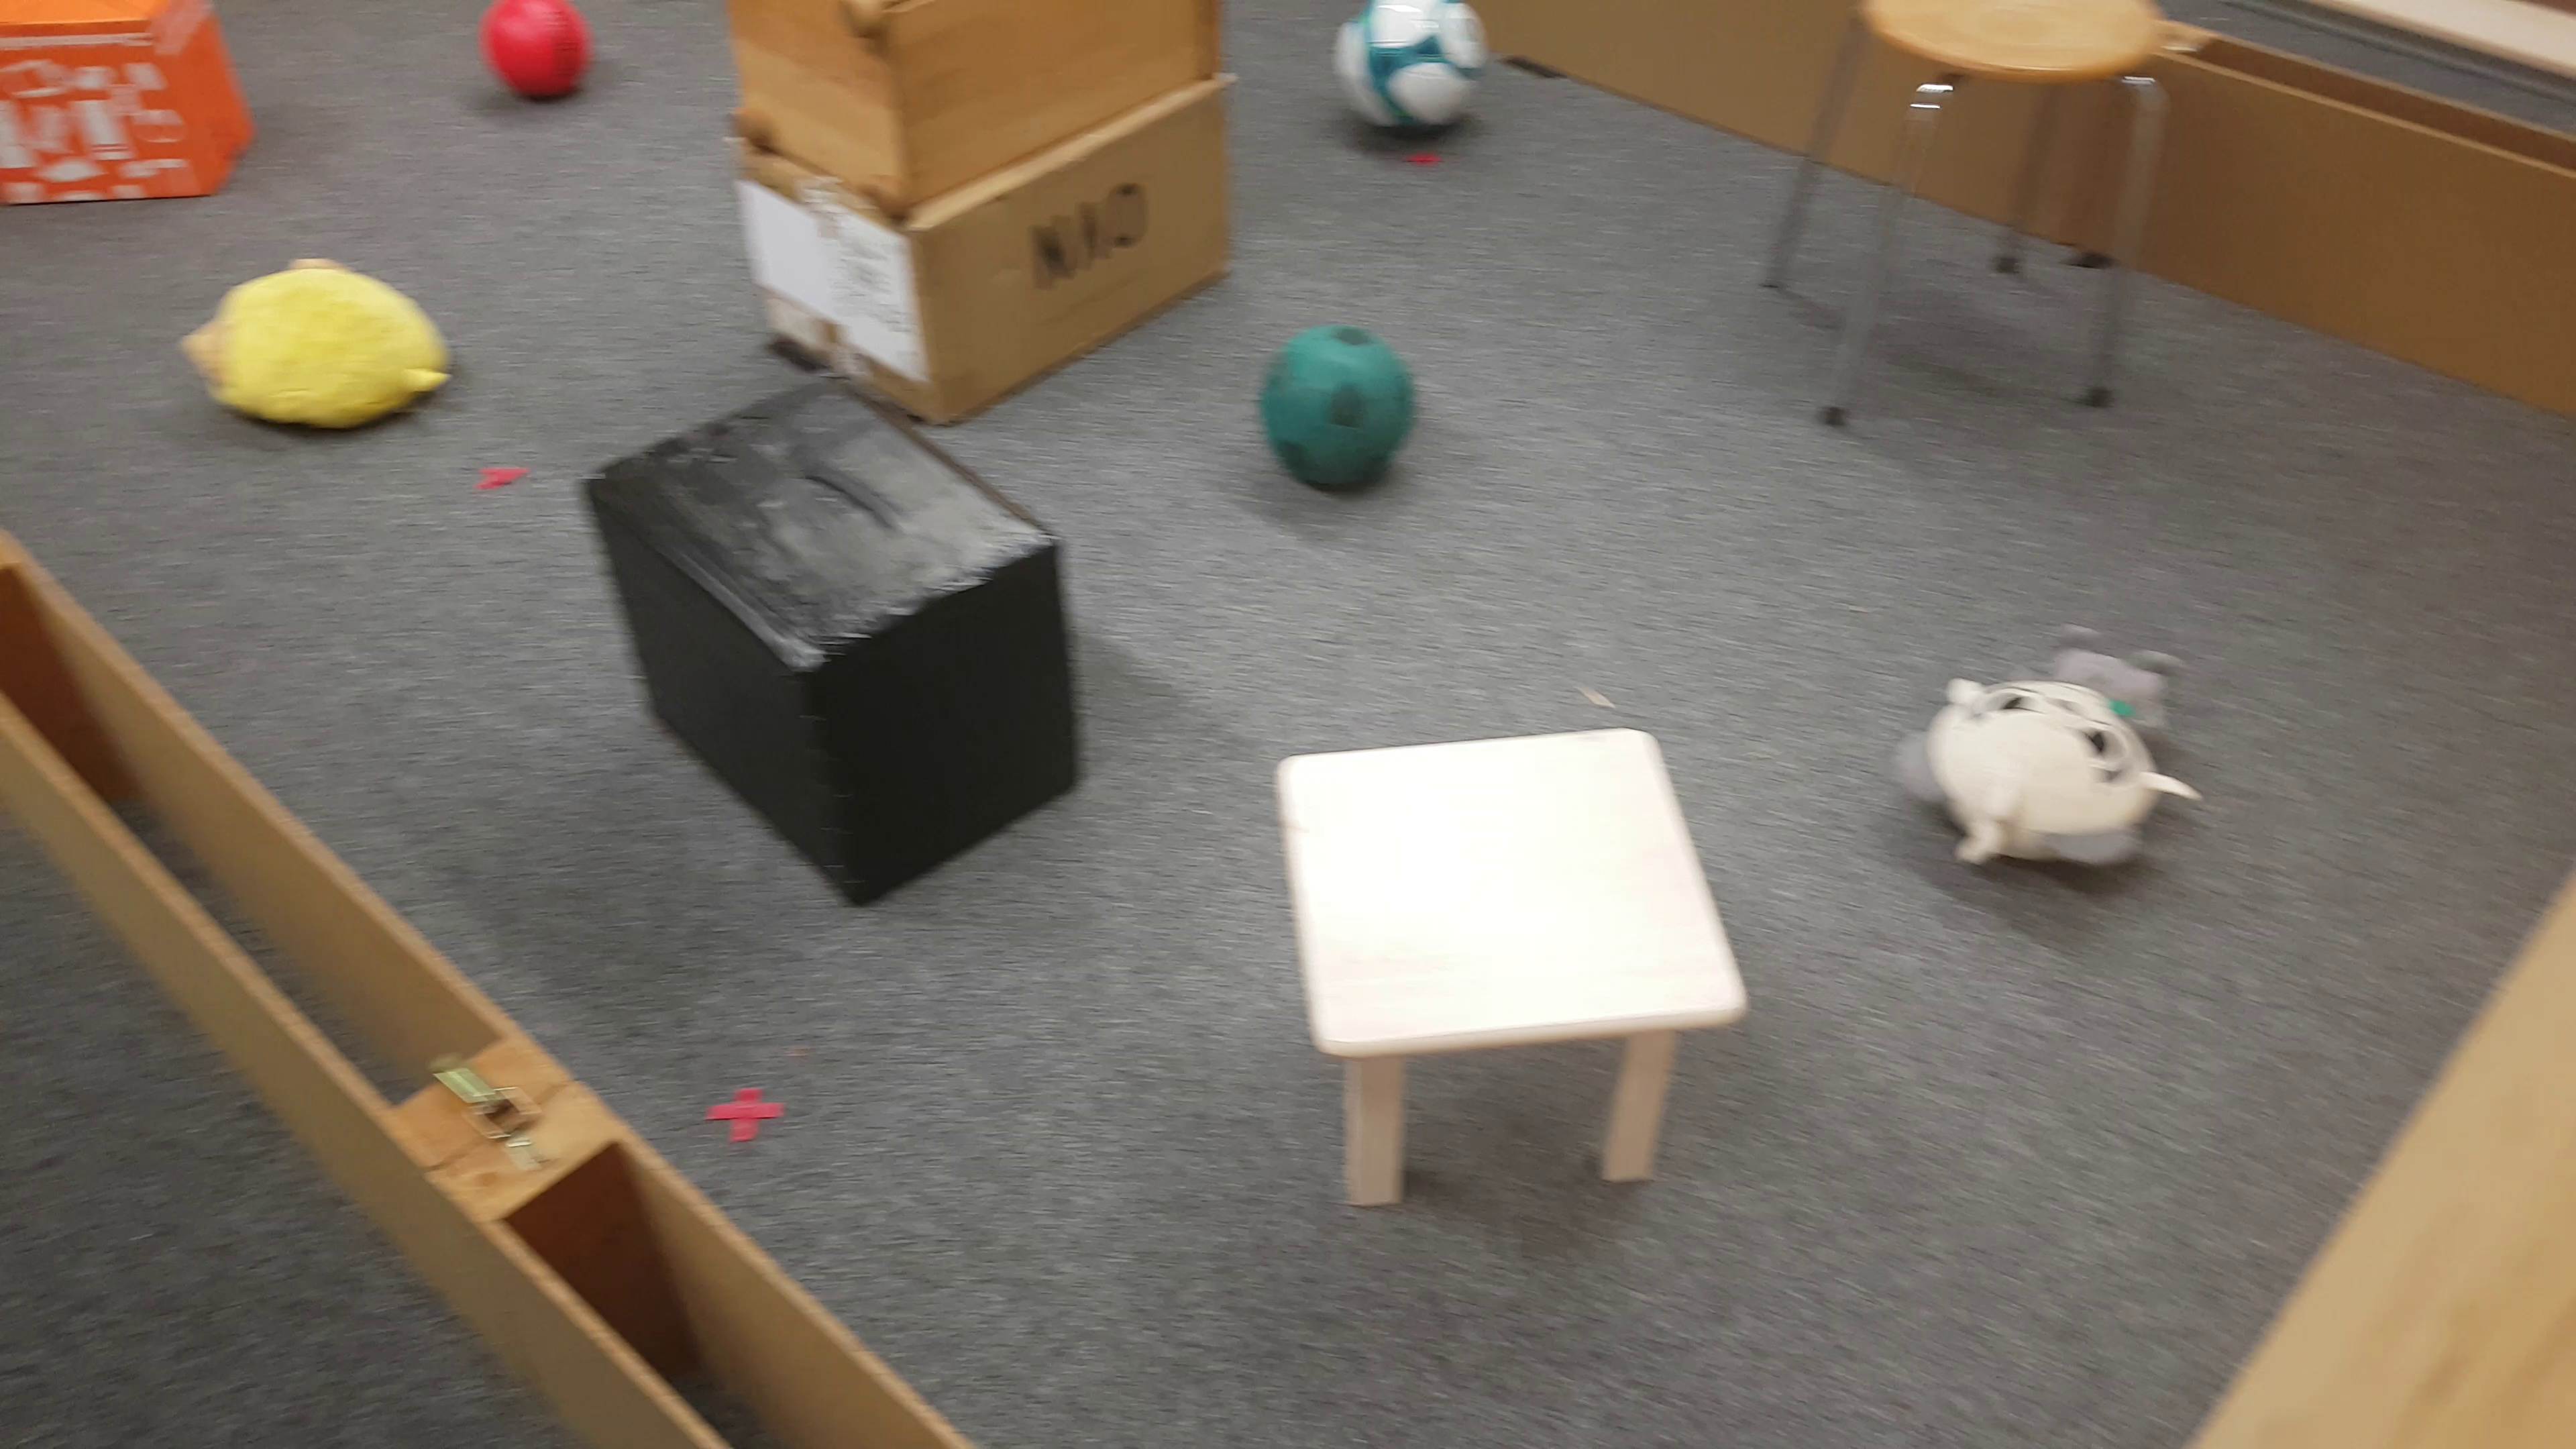grasp: (1890, 621, 2206, 892), (179, 258, 448, 435)
kick: (1263, 329, 1428, 492), (1336, 4, 1497, 149), (479, 2, 593, 113)
push: (594, 372, 1097, 909), (0, 12, 264, 205)
